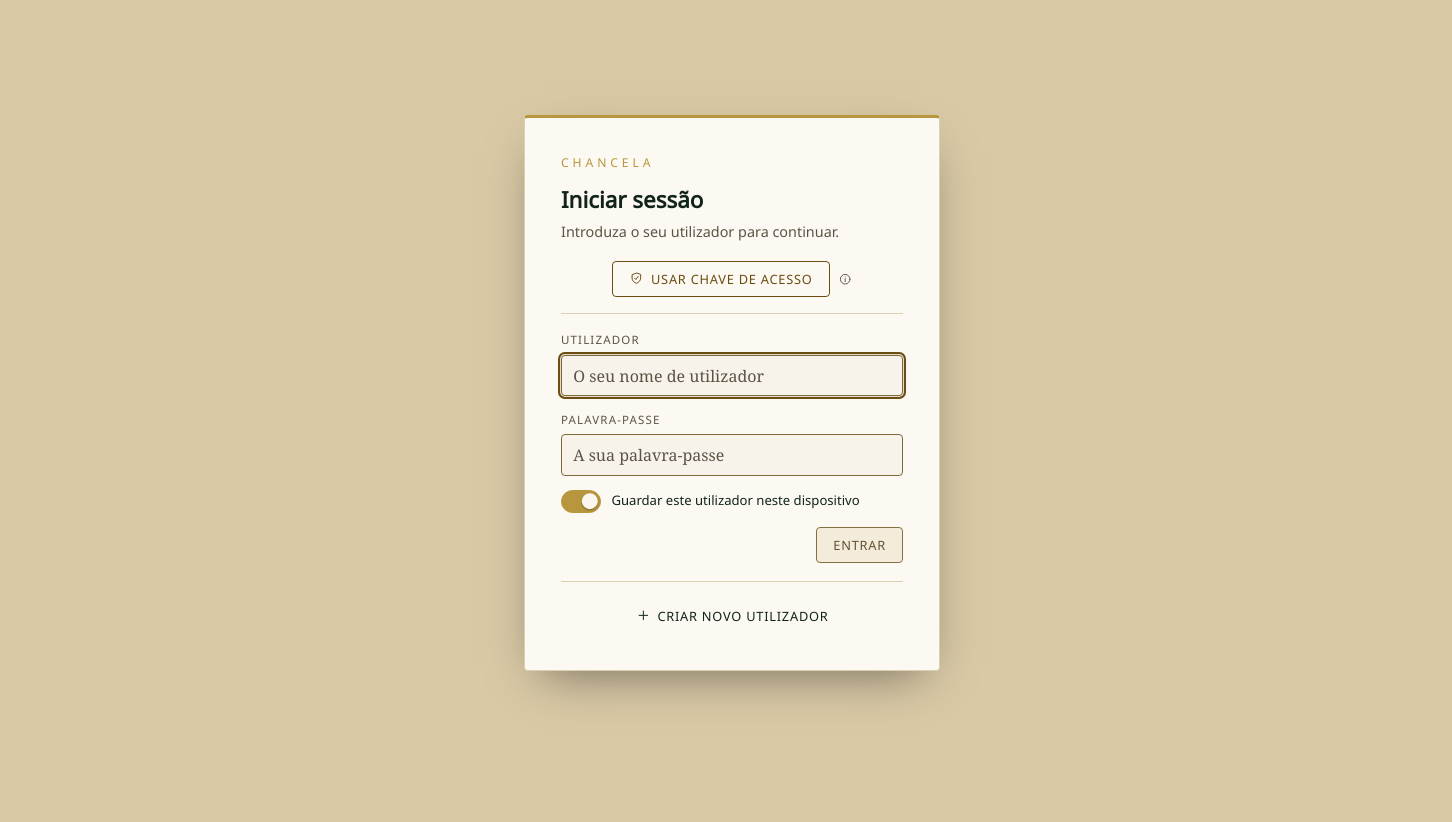
Test case: AuthGate › a typed identifier + correct password signs in
Type "bruno.dias" into the field labelled "Utilizador". click: (732, 376)
box: [561, 355, 903, 396]
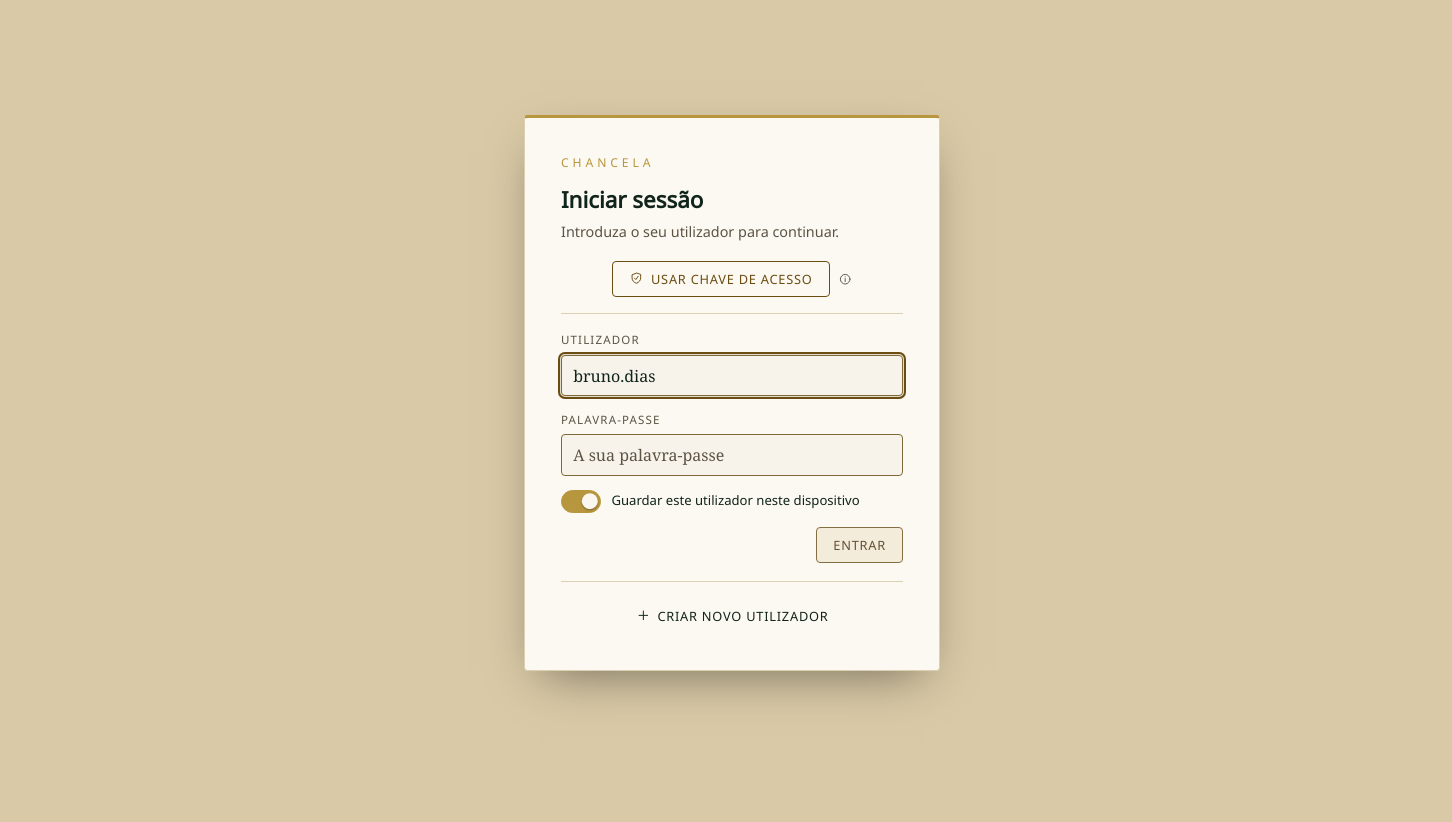
Type "correct-horse" into the password field labelled "Palavra-passe". click: (732, 455)
box: [561, 434, 903, 476]
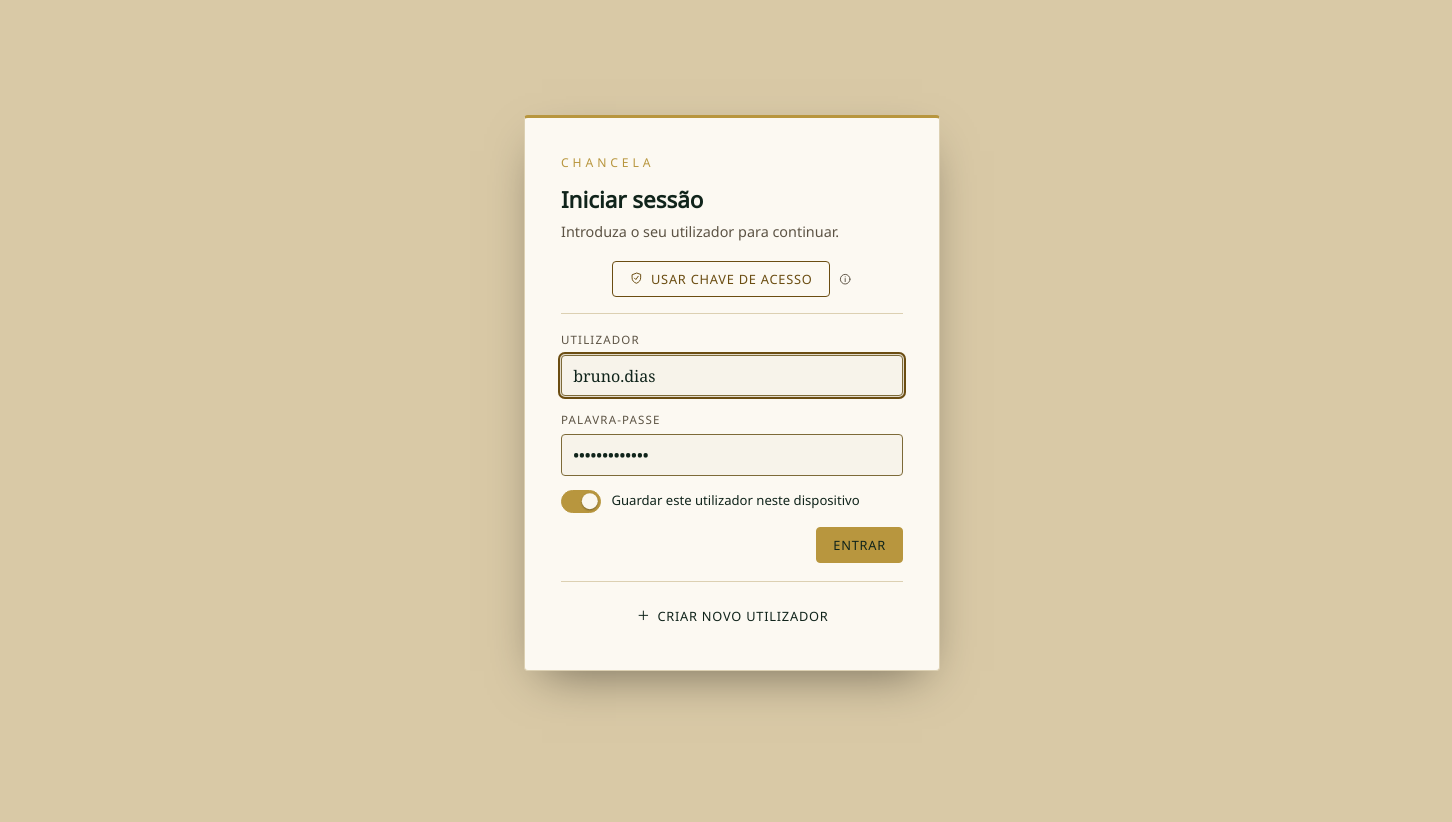
Click the button "Entrar". click: click(860, 545)
box: [816, 527, 903, 563]
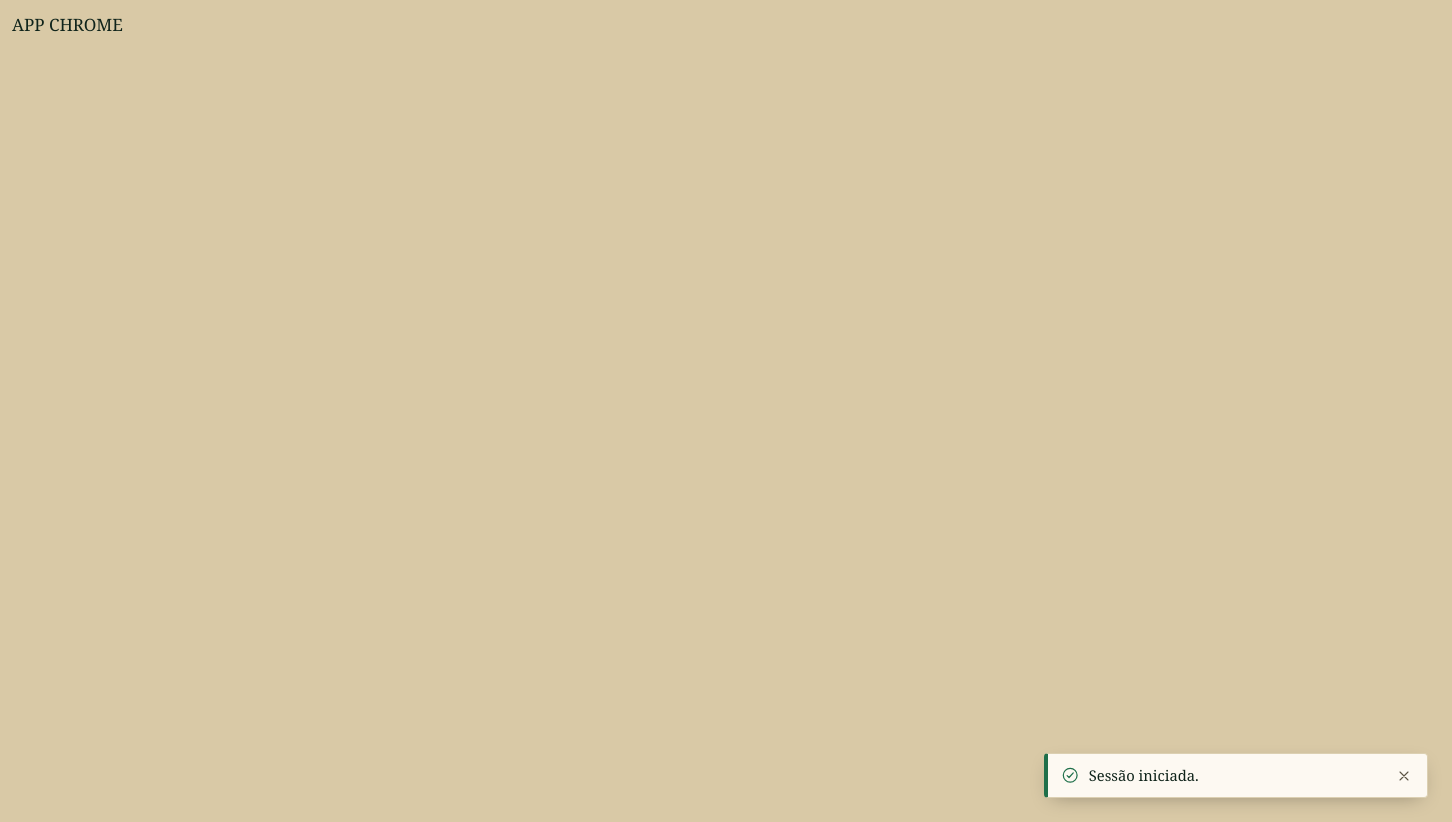
Expected: the text "APP CHROME" is shown, [12, 13, 123, 36]
